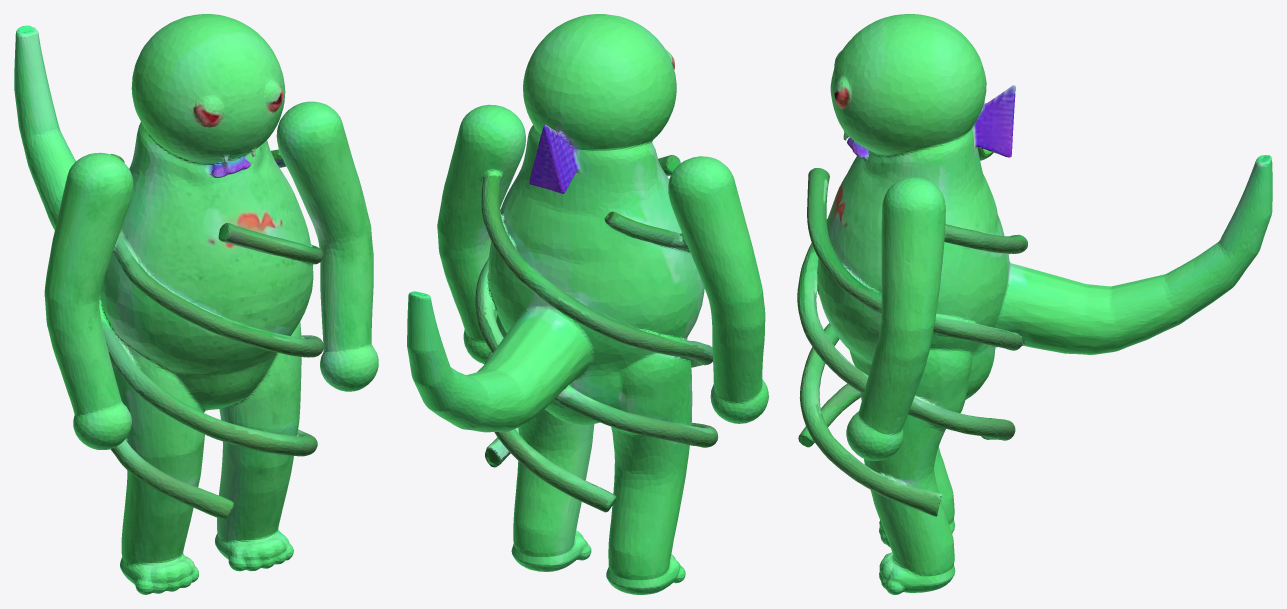
Rendered from creature-087.glb.
3 renders of one model, left to right at view 1: azimuth 30°, elevation 25°; view 2: azimuth 150°, elevation 25°; view 3: azimuth 270°, elevation 25°, orthographic.
Parts seen in each view (by area): view 1: tmpmrdbq3um.ply; view 2: tmpmrdbq3um.ply; view 3: tmpmrdbq3um.ply.
Boxes of the visible parts, x1,y1,x2,y2 form: tmpmrdbq3um.ply: (14,14,378,594); tmpmrdbq3um.ply: (407,14,768,594); tmpmrdbq3um.ply: (797,14,1272,594).
Size of the model in its own units: 1.21 by 1.99 by 1.59.
1 material, 1 textured.
